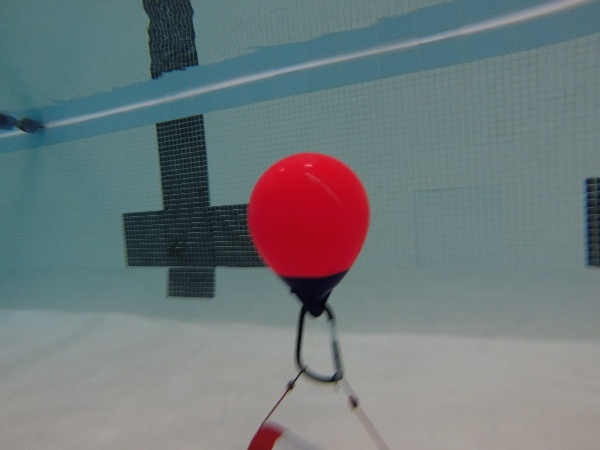buoy_red: (245, 149, 369, 318)
